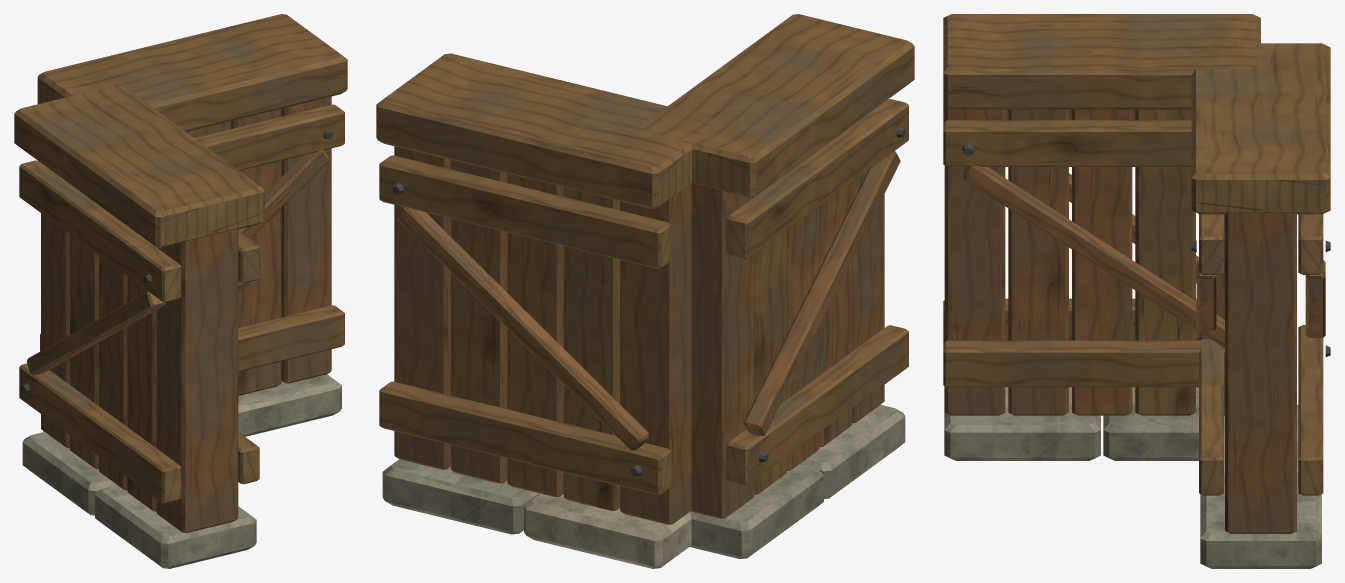
File: b05_corner.fbx
The picture shows the model from 3 angles, left to right: view 1: azimuth 30°, elevation 25°; view 2: azimuth 150°, elevation 25°; view 3: azimuth 270°, elevation 25°; orthographic projection. The views are drawn at different scales.
Parts seen in each view (by area): view 1: b05_corner; view 2: b05_corner; view 3: b05_corner.
Boxes of the visible parts, <box> form: b05_corner: <box>14,14,347,568</box>; b05_corner: <box>376,14,914,568</box>; b05_corner: <box>943,14,1330,568</box>.
Size of the model in its own units: 15605 by 15605 by 17600.
